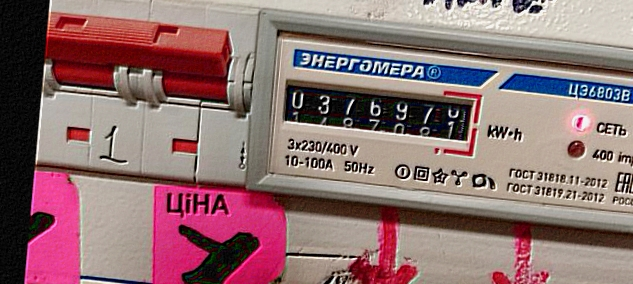0: (288, 87, 304, 110)
1: (443, 119, 456, 140)
3: (316, 94, 332, 116)
6: (367, 94, 384, 118)
7: (341, 93, 358, 118), (419, 102, 436, 126)
9: (393, 99, 409, 122)
screen: (271, 66, 486, 160)
